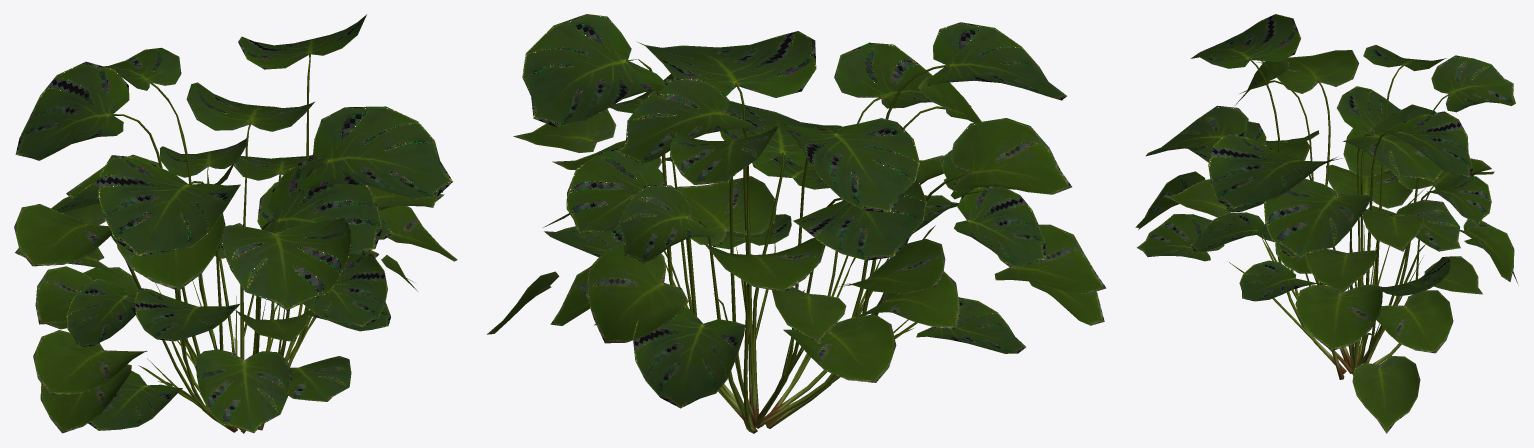
The model's file is monstera_deliciosa_l.glb.
3 renders of one model, left to right at view 1: azimuth 30°, elevation 25°; view 2: azimuth 150°, elevation 25°; view 3: azimuth 270°, elevation 25°, orthographic. The views are drawn at different scales.
Parts seen in each view (by area): view 1: LOD0; view 2: LOD0; view 3: LOD0.
Part boxes in pixels (left/top/right/bottom): LOD0: left=14, top=14, right=457, bottom=433; LOD0: left=487, top=14, right=1106, bottom=433; LOD0: left=1135, top=14, right=1517, bottom=433.
Size of the model in its own units: 2.51 by 1.77 by 2.02.
1 material, 1 textured.
